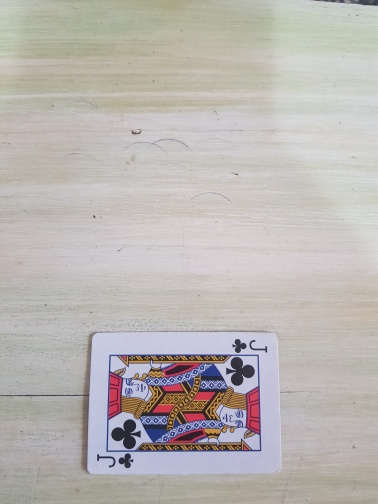jack: (85, 330, 284, 476)
